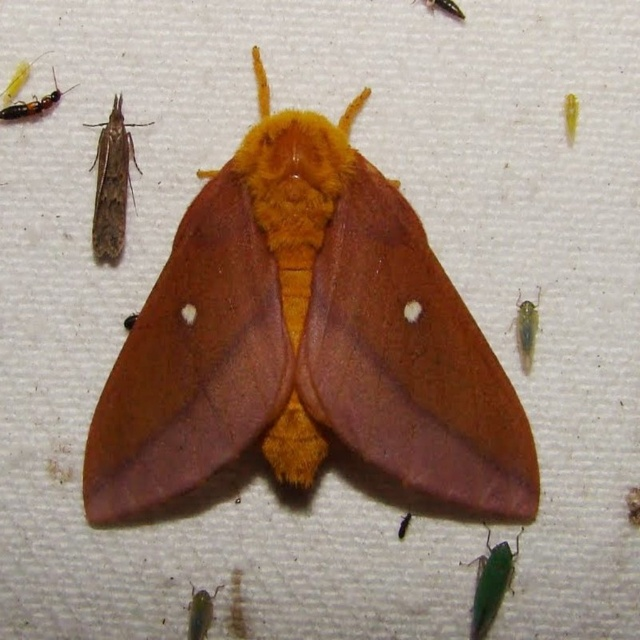Butterfly: (92, 93, 518, 545), (85, 93, 154, 264)
